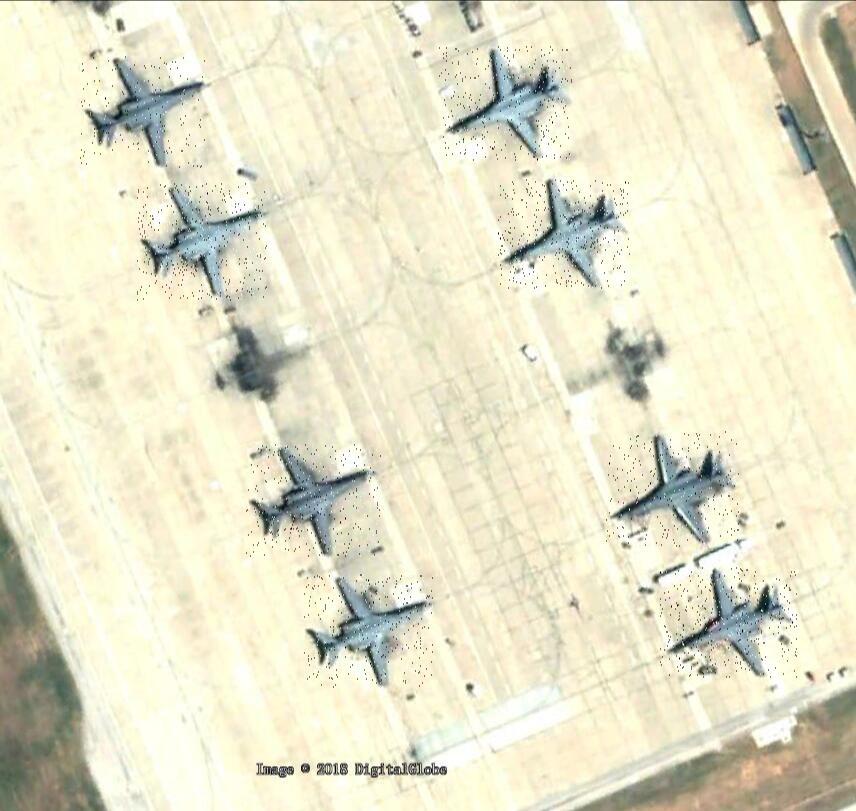A10: (606, 431, 739, 546), (245, 444, 381, 556), (137, 183, 267, 300), (439, 46, 572, 160), (660, 567, 797, 677), (304, 574, 434, 687), (498, 179, 630, 288), (80, 55, 208, 167)
